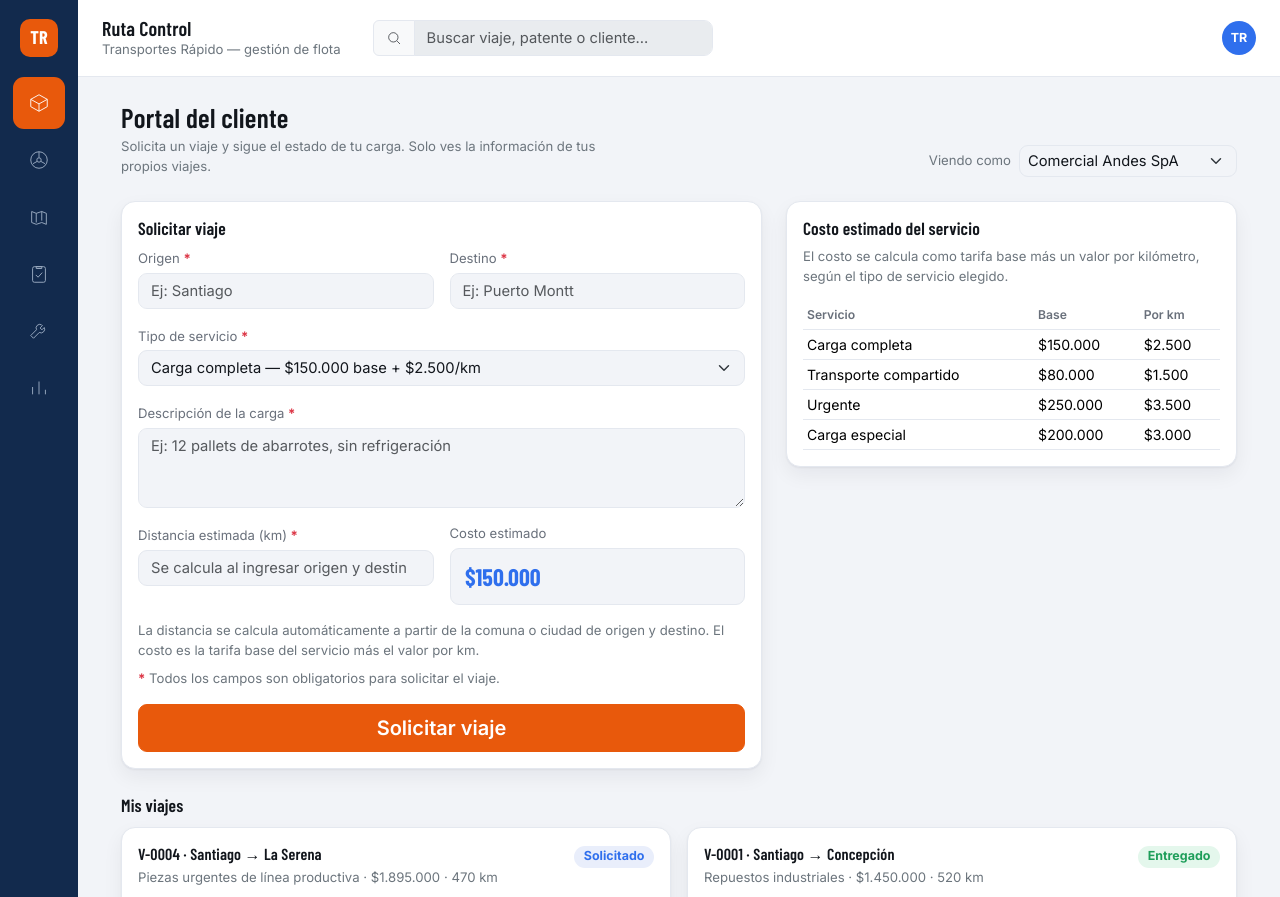
App › el supervisor asigna un viaje y el conductor lo ve en su app
Click the button named "Supervisor de ruta": point(39, 217) x1=13 y1=191 x2=65 y2=243
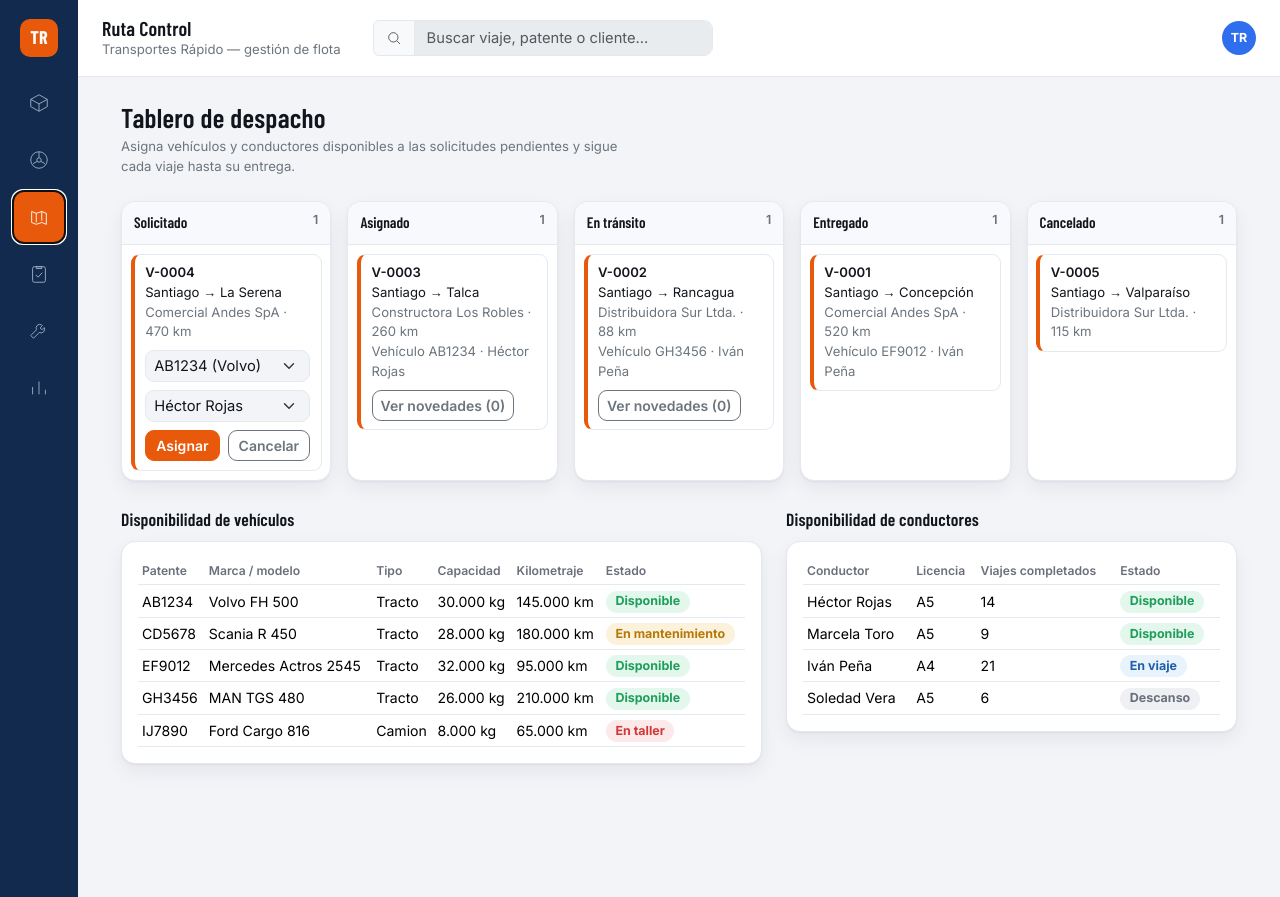
Click the button "Asignar": point(182, 446) x1=145 y1=430 x2=220 y2=461
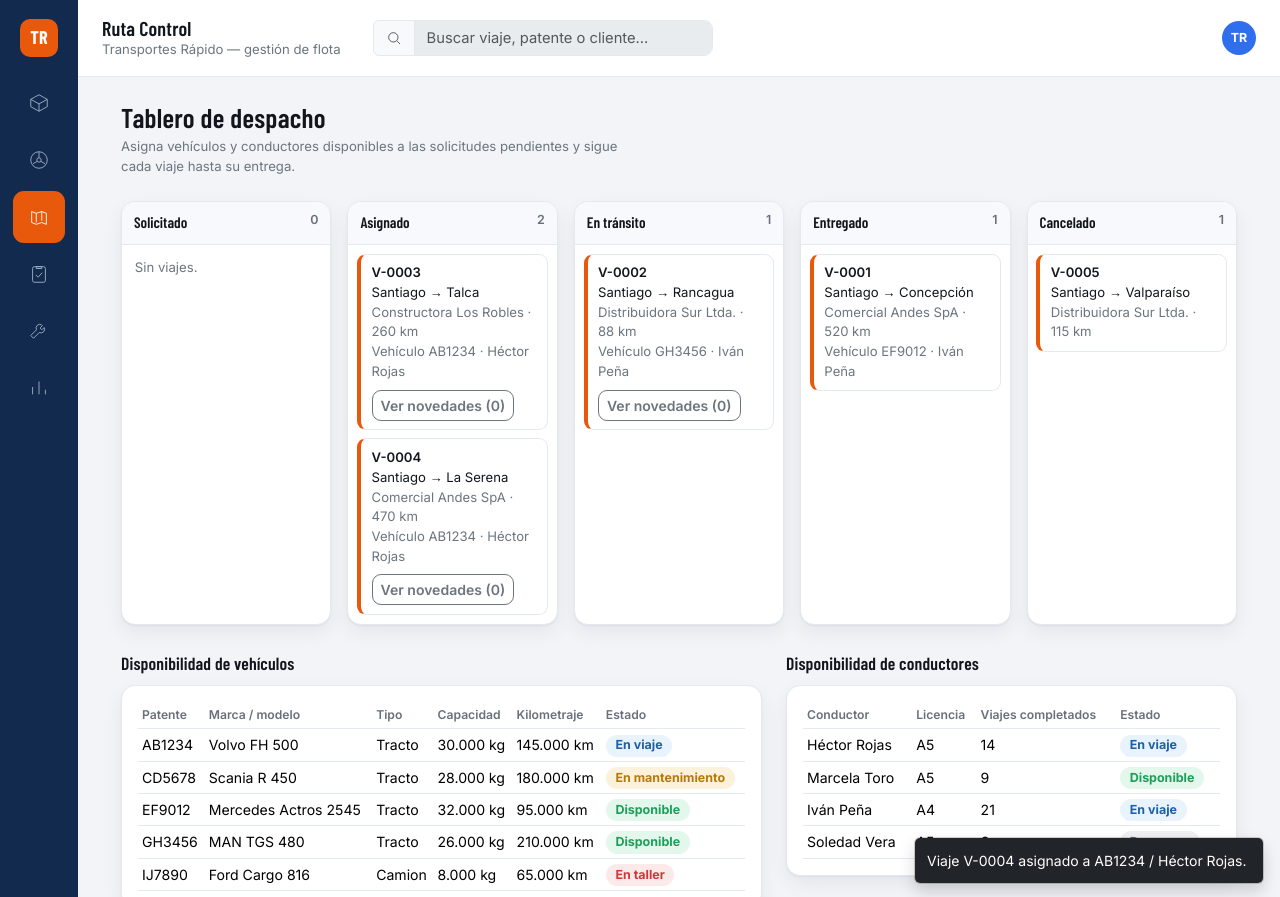
Click the button named "Conductor": point(39, 160) x1=13 y1=134 x2=65 y2=186
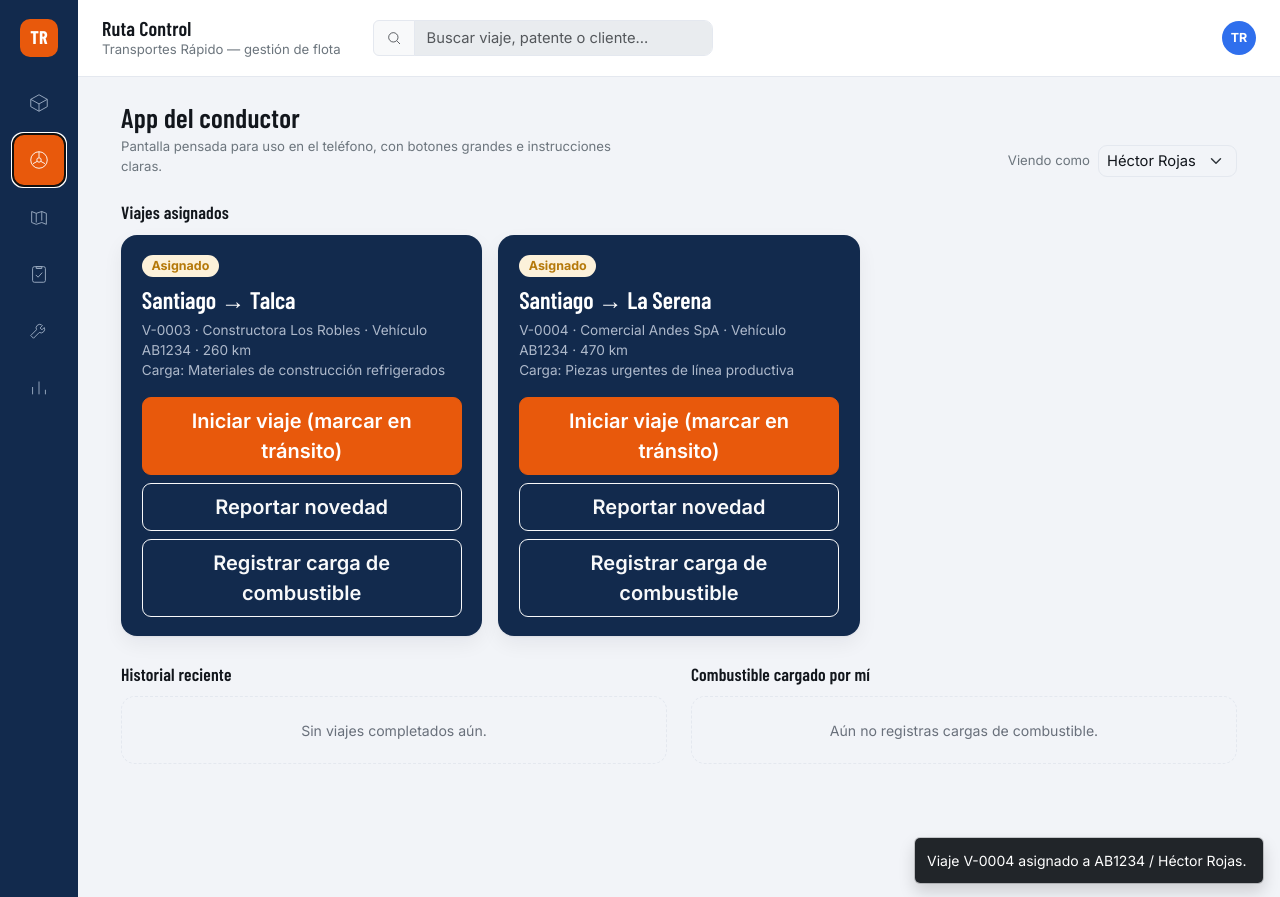
Now the number of buttons "Iniciar viaje (marcar en tránsito)" is 2, box x1=142 y1=397 x2=462 y2=475; x1=519 y1=397 x2=839 y2=475
